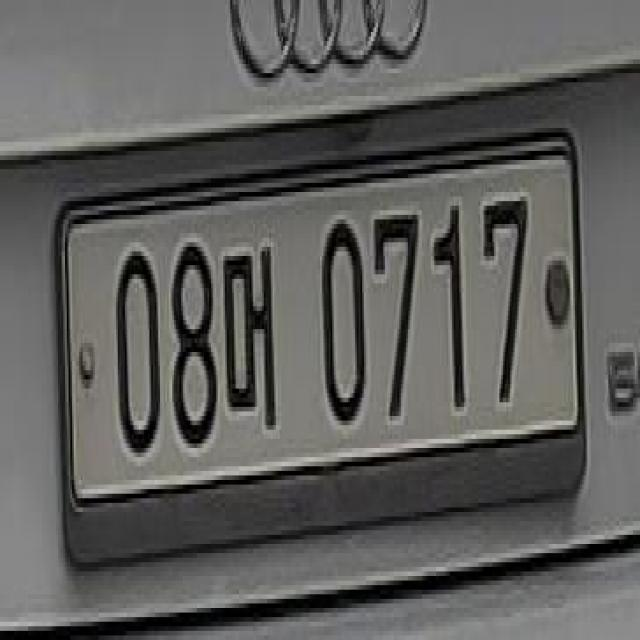illegal_plate: (56, 130, 593, 557)
